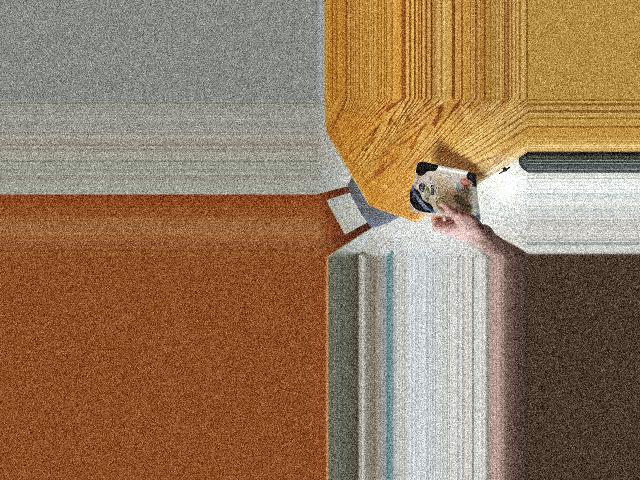cheese: (405, 167, 488, 217)
